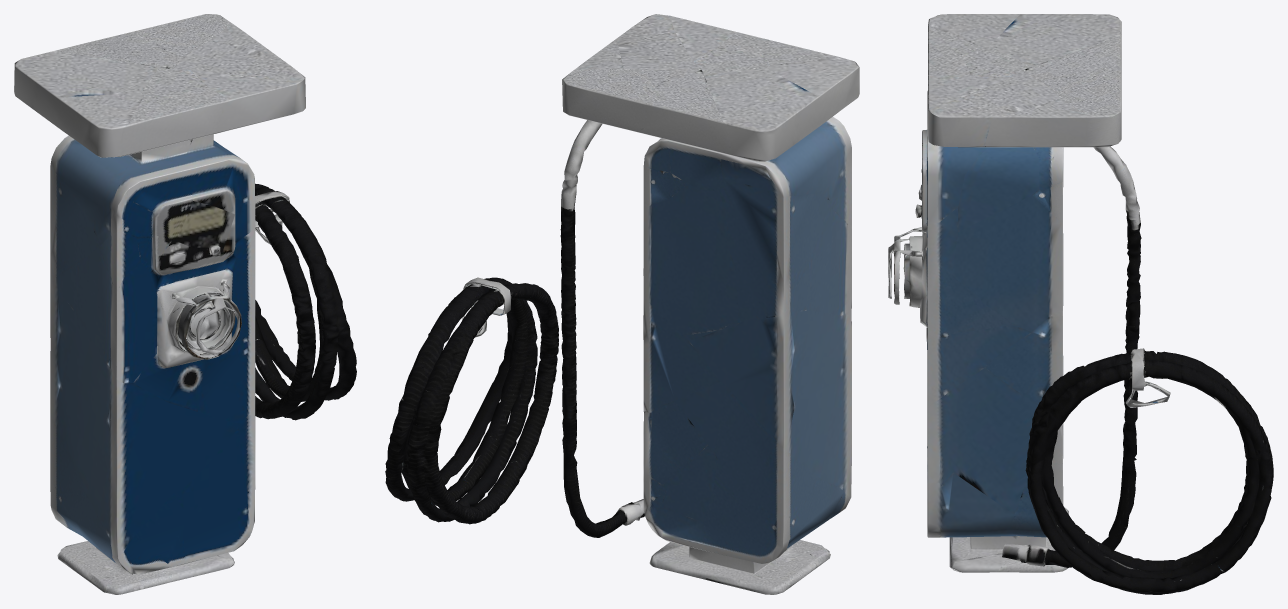
Rendered from borne.glb.
The picture shows the model from 3 angles, left to right: view 1: azimuth 30°, elevation 25°; view 2: azimuth 150°, elevation 25°; view 3: azimuth 270°, elevation 25°; orthographic projection.
Bounding box in the file's own units: 1.33 × 1.9 × 1.37.
1 material, 1 textured.
